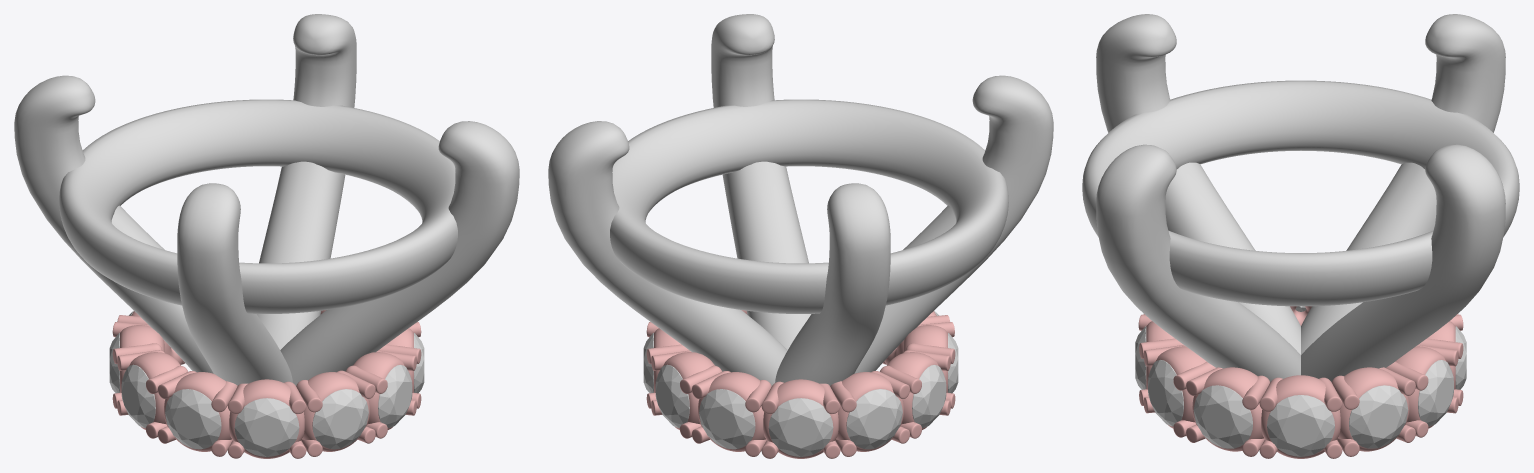
Rendered from HIDDEN-HALO.glb.
3 views of the same model, side by side, from view 1: azimuth 30°, elevation 25°; view 2: azimuth 150°, elevation 25°; view 3: azimuth 270°, elevation 25° (orthographic). The views are drawn at different scales.
Visible parts, largest first — view 1: HIDDEN-HALO, HIDDEN-HALO.METAL, HIDDEN-HALO.GEMSTONES; view 2: HIDDEN-HALO, HIDDEN-HALO.METAL, HIDDEN-HALO.GEMSTONES; view 3: HIDDEN-HALO, HIDDEN-HALO.METAL, HIDDEN-HALO.GEMSTONES.
Part boxes in pixels (<box>): HIDDEN-HALO: <box>14,14,519,385</box>; HIDDEN-HALO.METAL: <box>112,310,421,458</box>; HIDDEN-HALO.GEMSTONES: <box>109,310,424,456</box>; HIDDEN-HALO: <box>548,14,1053,385</box>; HIDDEN-HALO.METAL: <box>646,310,955,458</box>; HIDDEN-HALO.GEMSTONES: <box>643,310,958,456</box>; HIDDEN-HALO: <box>1082,14,1519,382</box>; HIDDEN-HALO.METAL: <box>1138,306,1463,458</box>; HIDDEN-HALO.GEMSTONES: <box>1135,306,1466,456</box>.
Bounding box in the file's own units: 4.96 × 4.48 × 4.96.
